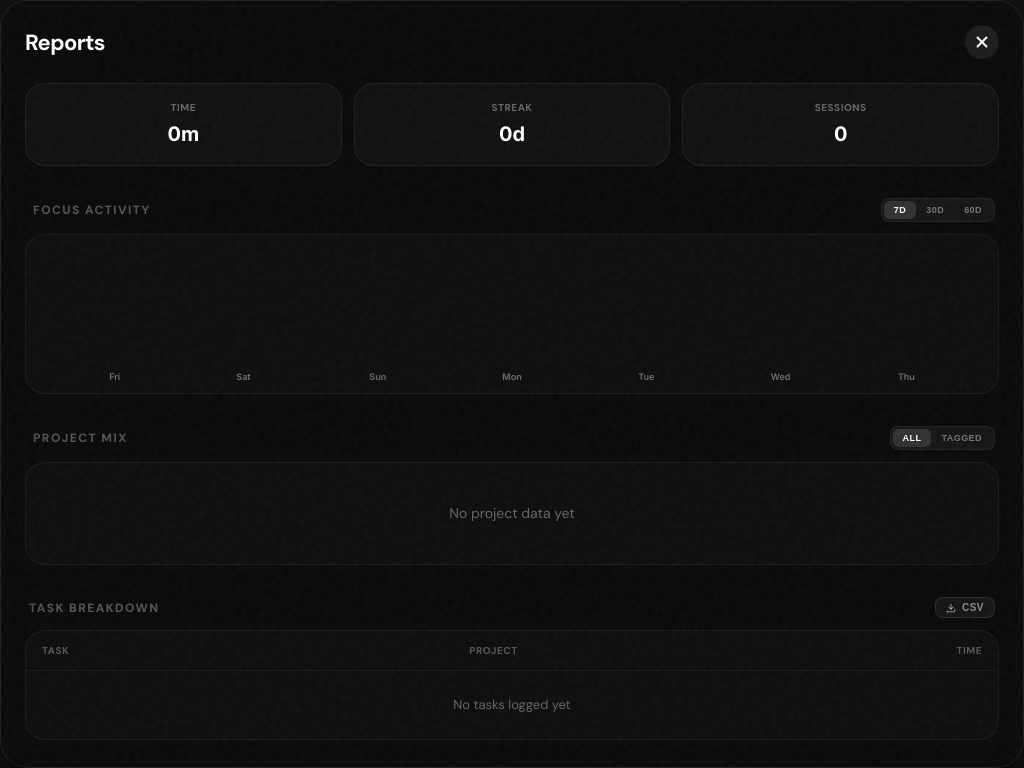
Test case: ReportsView and Helpers › ReportsView Component › should show saved state when export succeeds
Click the button "CSV". click: (965, 608)
box: [935,597,995,618]
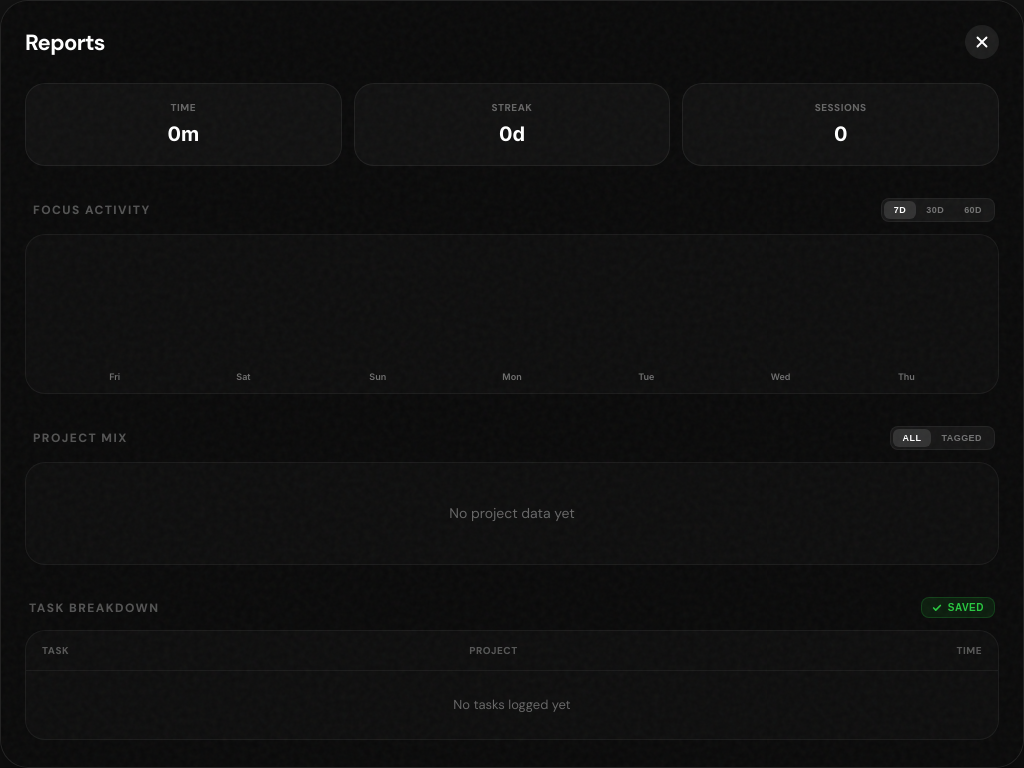
Expected: the text "Saved" is shown, [948,602,984,613]
